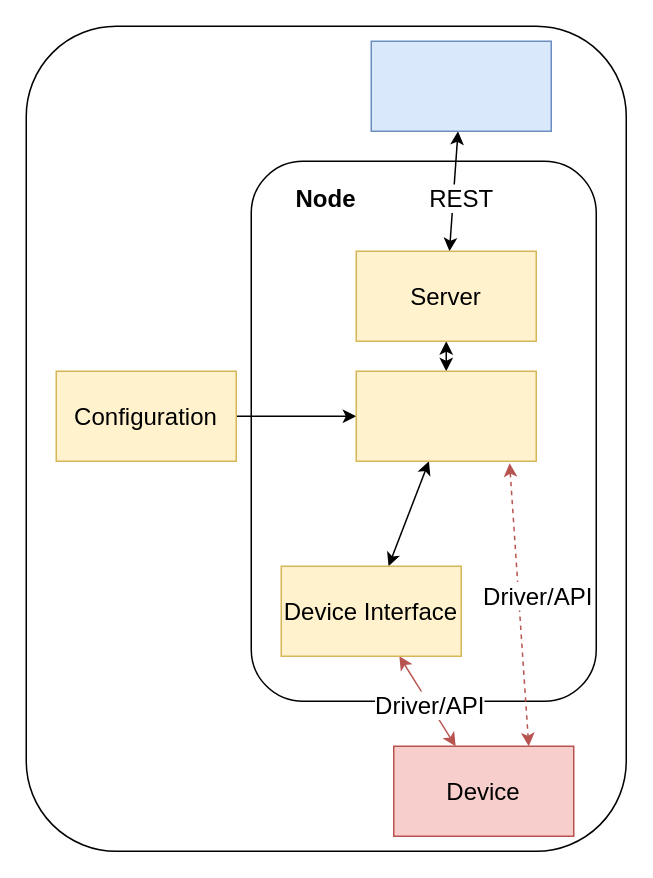
Image size: 653x878. Some labels were removed from this diagram. The centre of each missing label's shape, as x and y in pixels:
Class: [445,415]
Client: [460,85]
